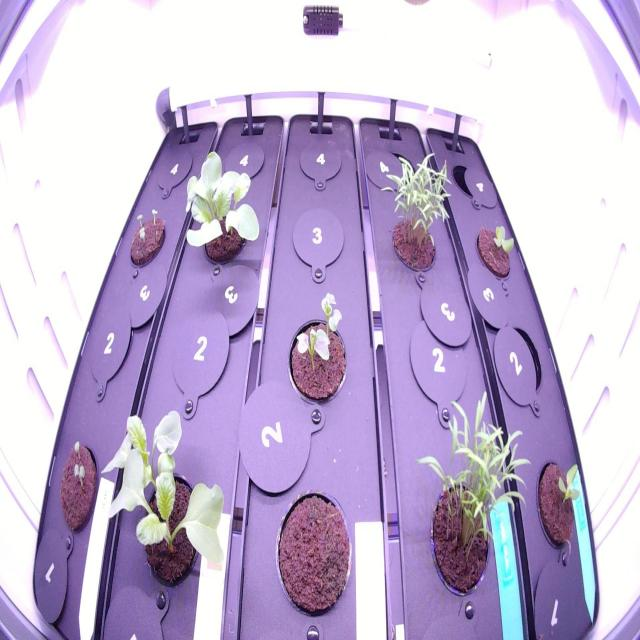empty_pod: (164, 304, 236, 413), (404, 319, 470, 422), (494, 318, 550, 412), (84, 302, 135, 397), (290, 203, 348, 279), (218, 129, 270, 200), (292, 131, 346, 191), (369, 134, 419, 197), (447, 148, 496, 212), (152, 134, 194, 201)
germination: (284, 287, 356, 415), (54, 432, 102, 540), (125, 199, 169, 277)
pod: (268, 481, 362, 623)
young: (532, 446, 589, 565), (471, 216, 521, 292)
